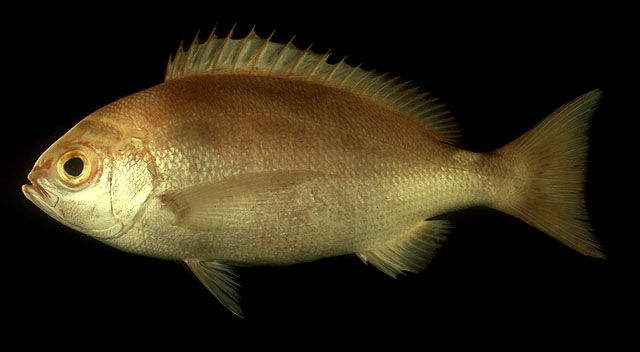fish: (21, 22, 604, 318)
